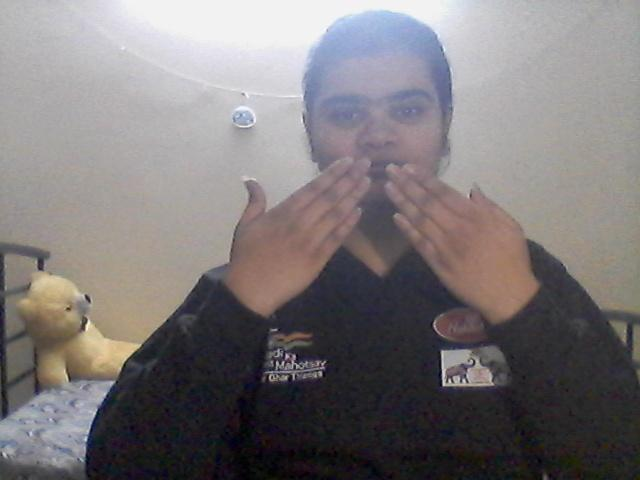thank you: (221, 146, 533, 325)
